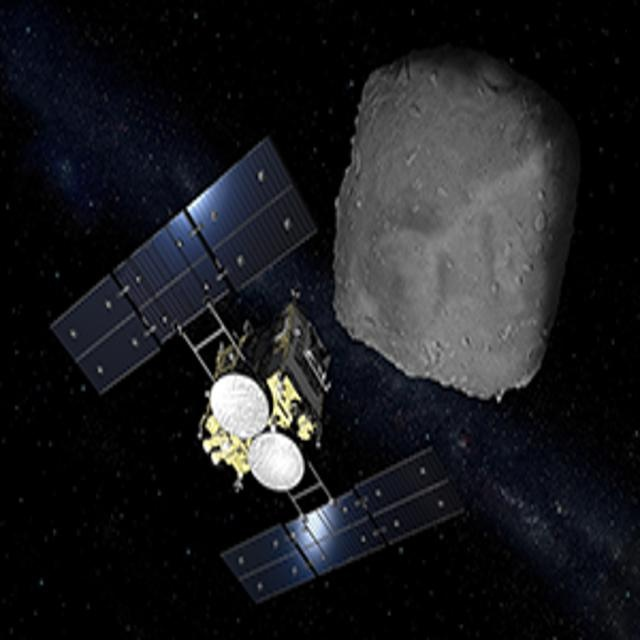large_debris: (338, 37, 581, 404)
satellite: (40, 169, 473, 626)
